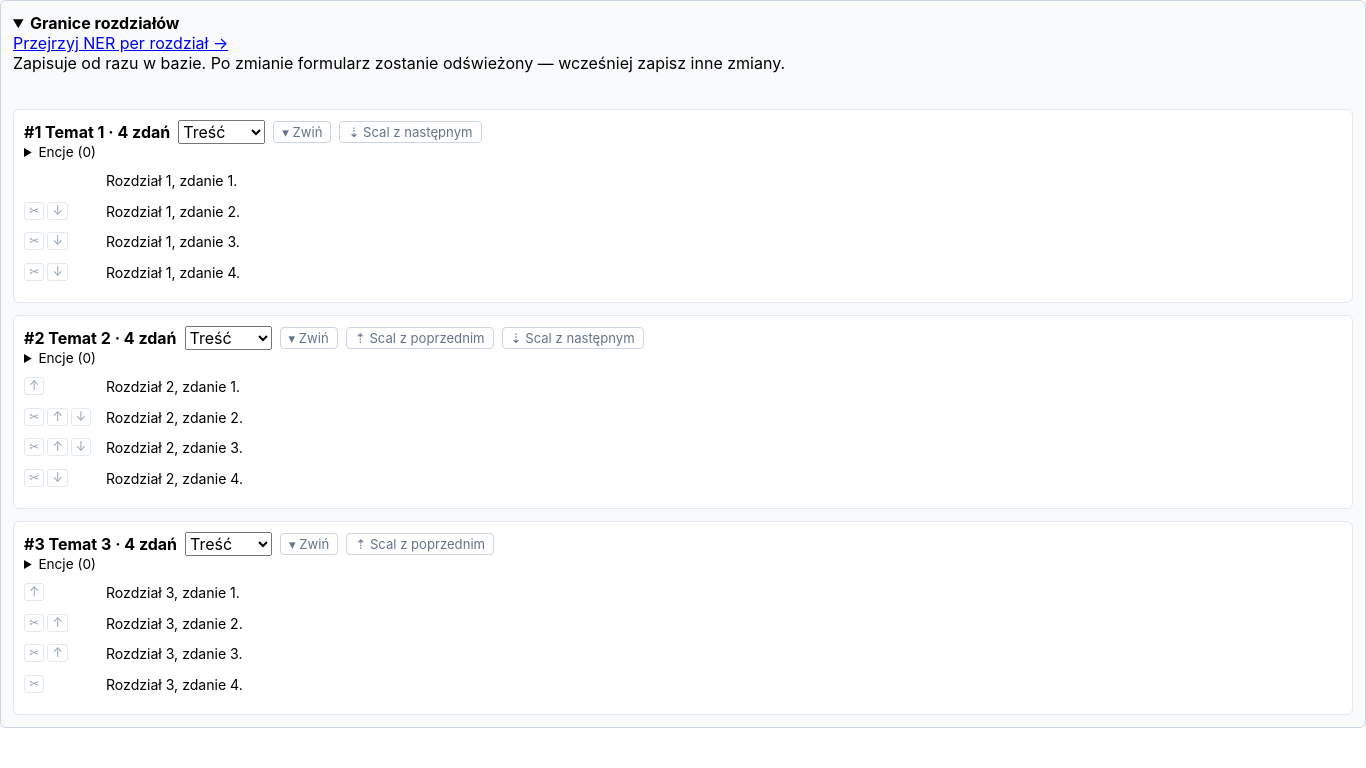
it: loads all chapters expanded on mount with parallel entity loading and keeps collapse toggles local
Expected: the text "#1 Temat 1 · 4 zdań" is shown, [24, 122, 170, 142]
Click the button with aria-label "Zwiń rozdział 2".
click(309, 338)  # box [280, 327, 338, 349]
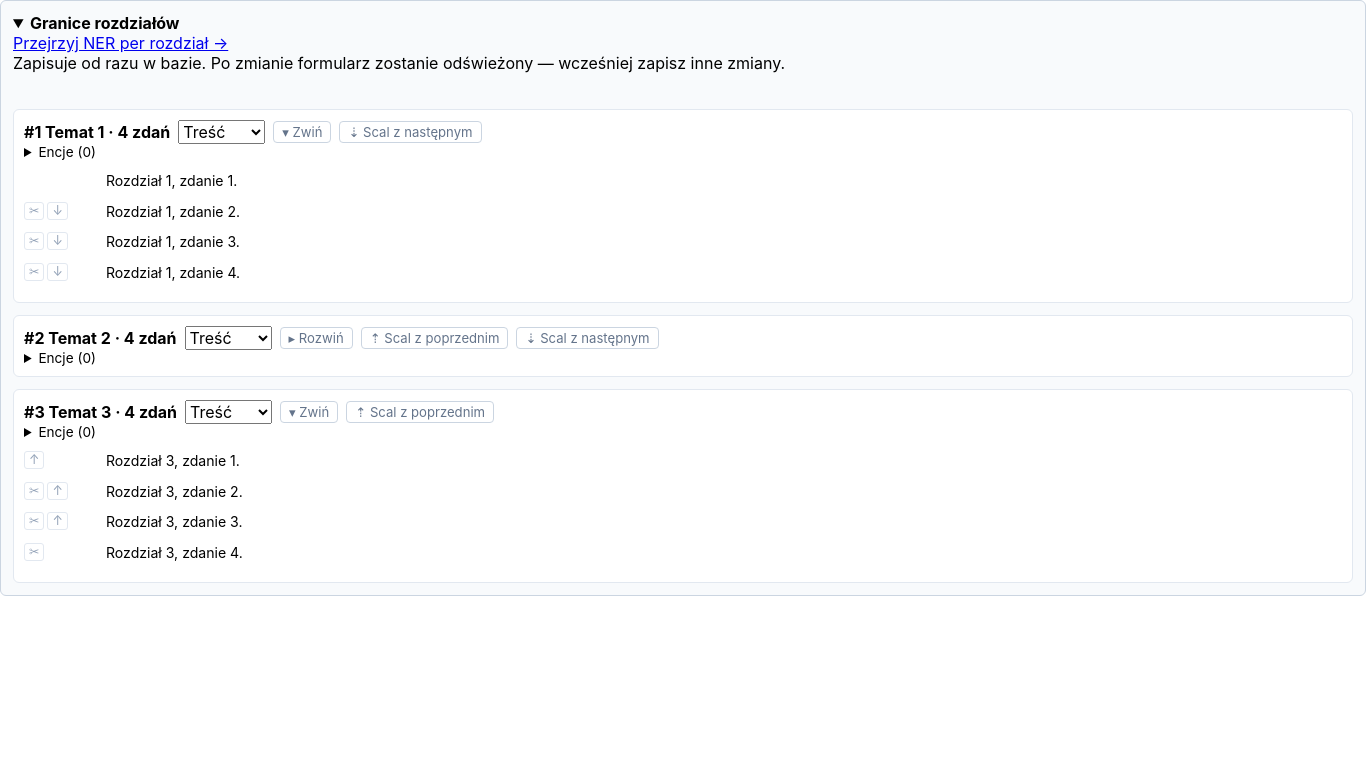
Expected: the text "Rozdział 1, zdanie 1." is shown, [106, 172, 237, 189]
Expected: the text "Rozdział 2, zdanie 1." is gone
Click the button with aria-label "Rozwiń rozdział 2".
click(316, 338)  # box [280, 327, 353, 349]
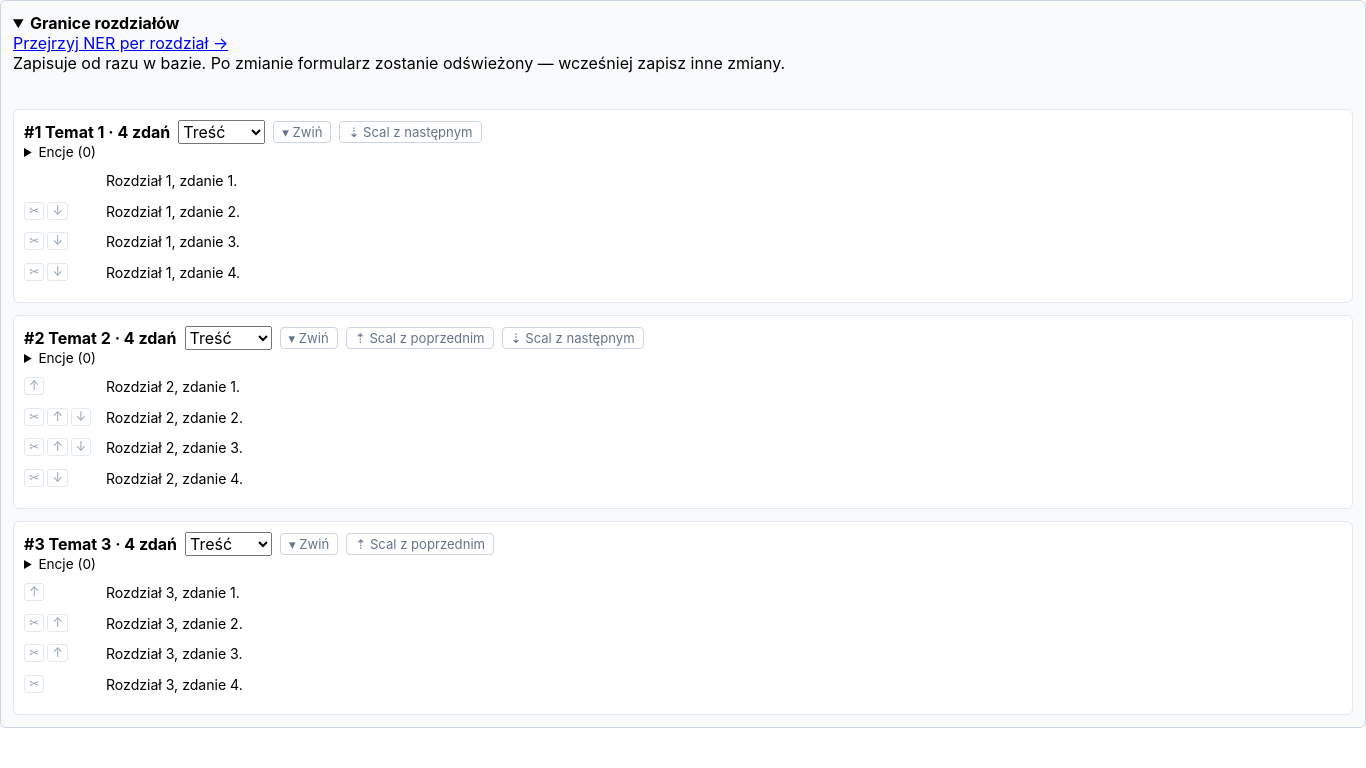
Expected: the text "Rozdział 2, zdanie 1." is shown, [106, 378, 240, 395]
